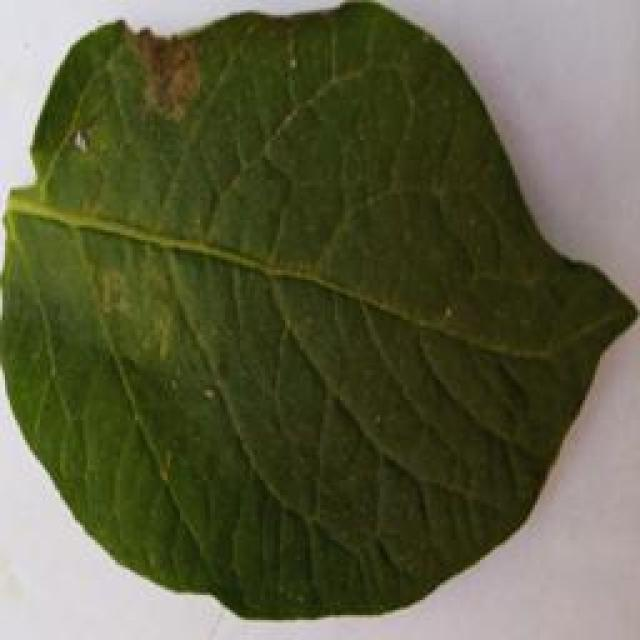Potato_Late_Blight: (6, 2, 632, 630)
